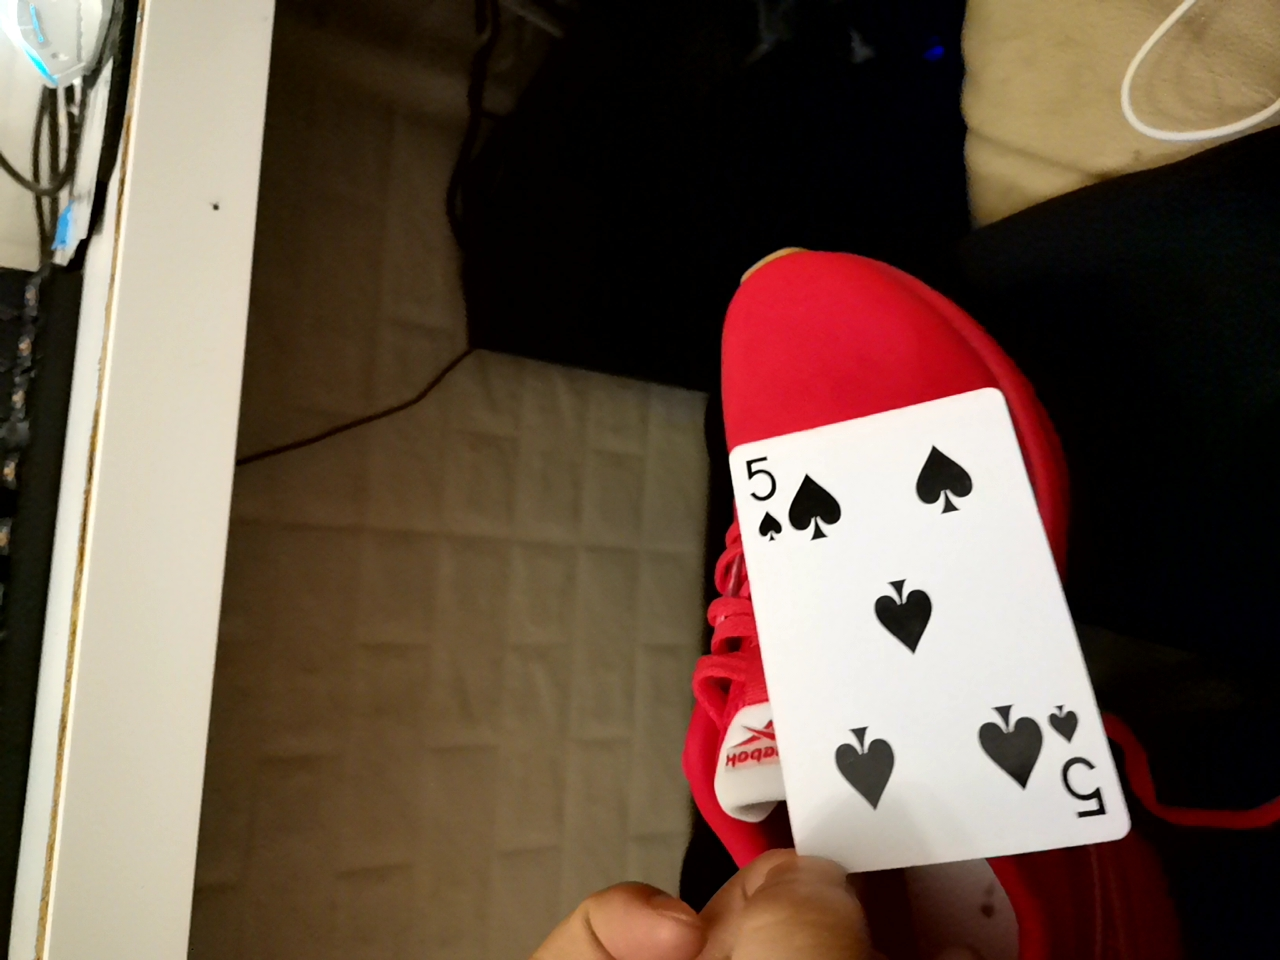ht 5: (718, 401, 1106, 870)
